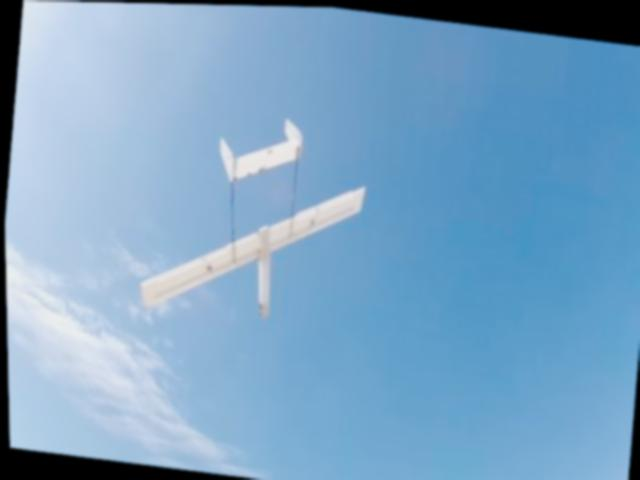uav: (127, 93, 382, 353)
